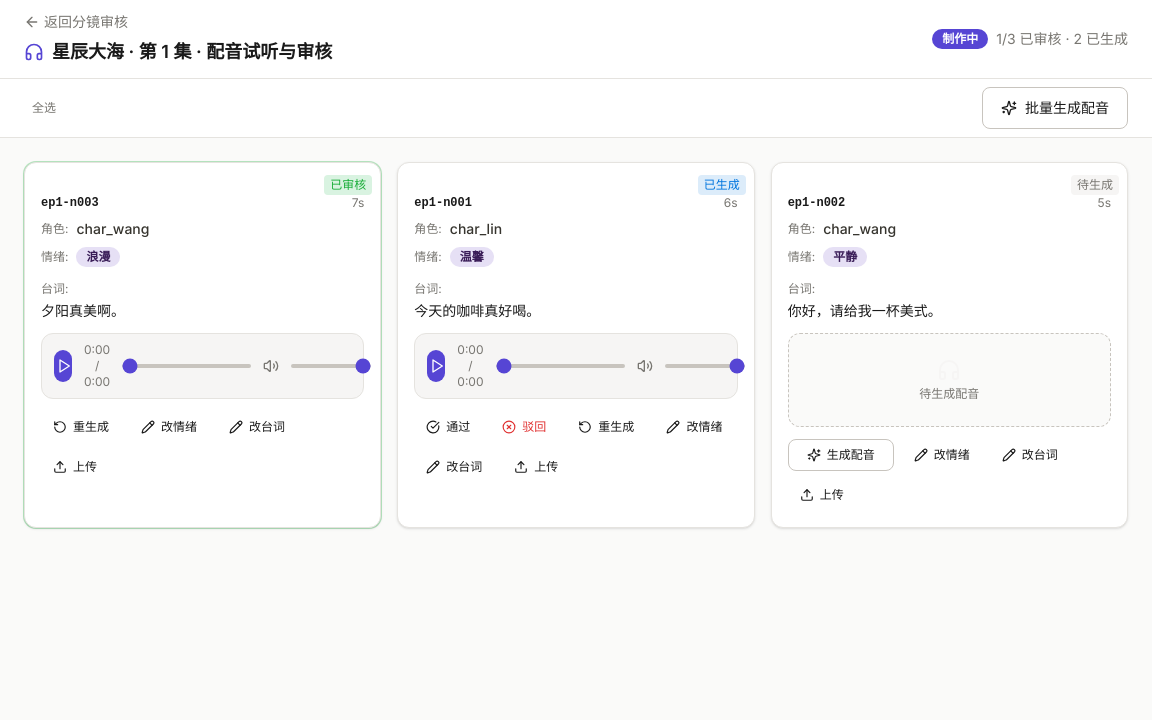
Test: TtsReviewPage › Dialogue edit › should open dialogue edit dialog
Click the button "改台词" below "今天的咖啡真好喝。" at (454, 467), box [414,451,494,483]
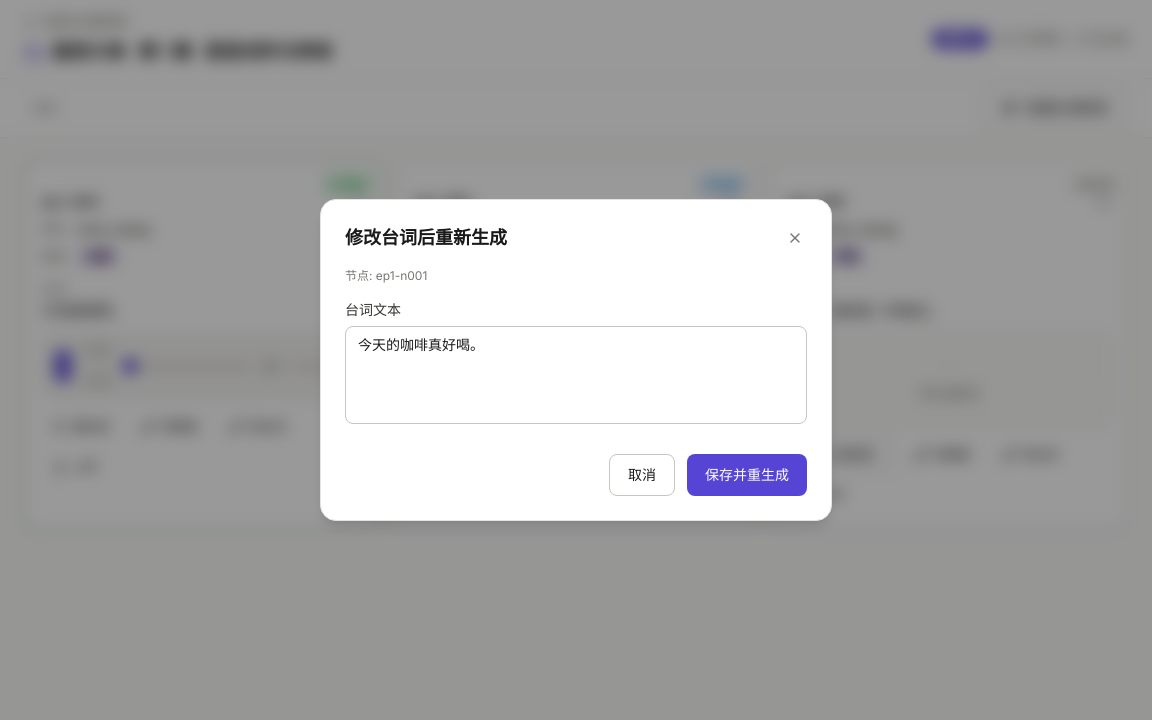
expect the heading "修改台词后重新生成" is shown: met, box [345,224,507,252]
